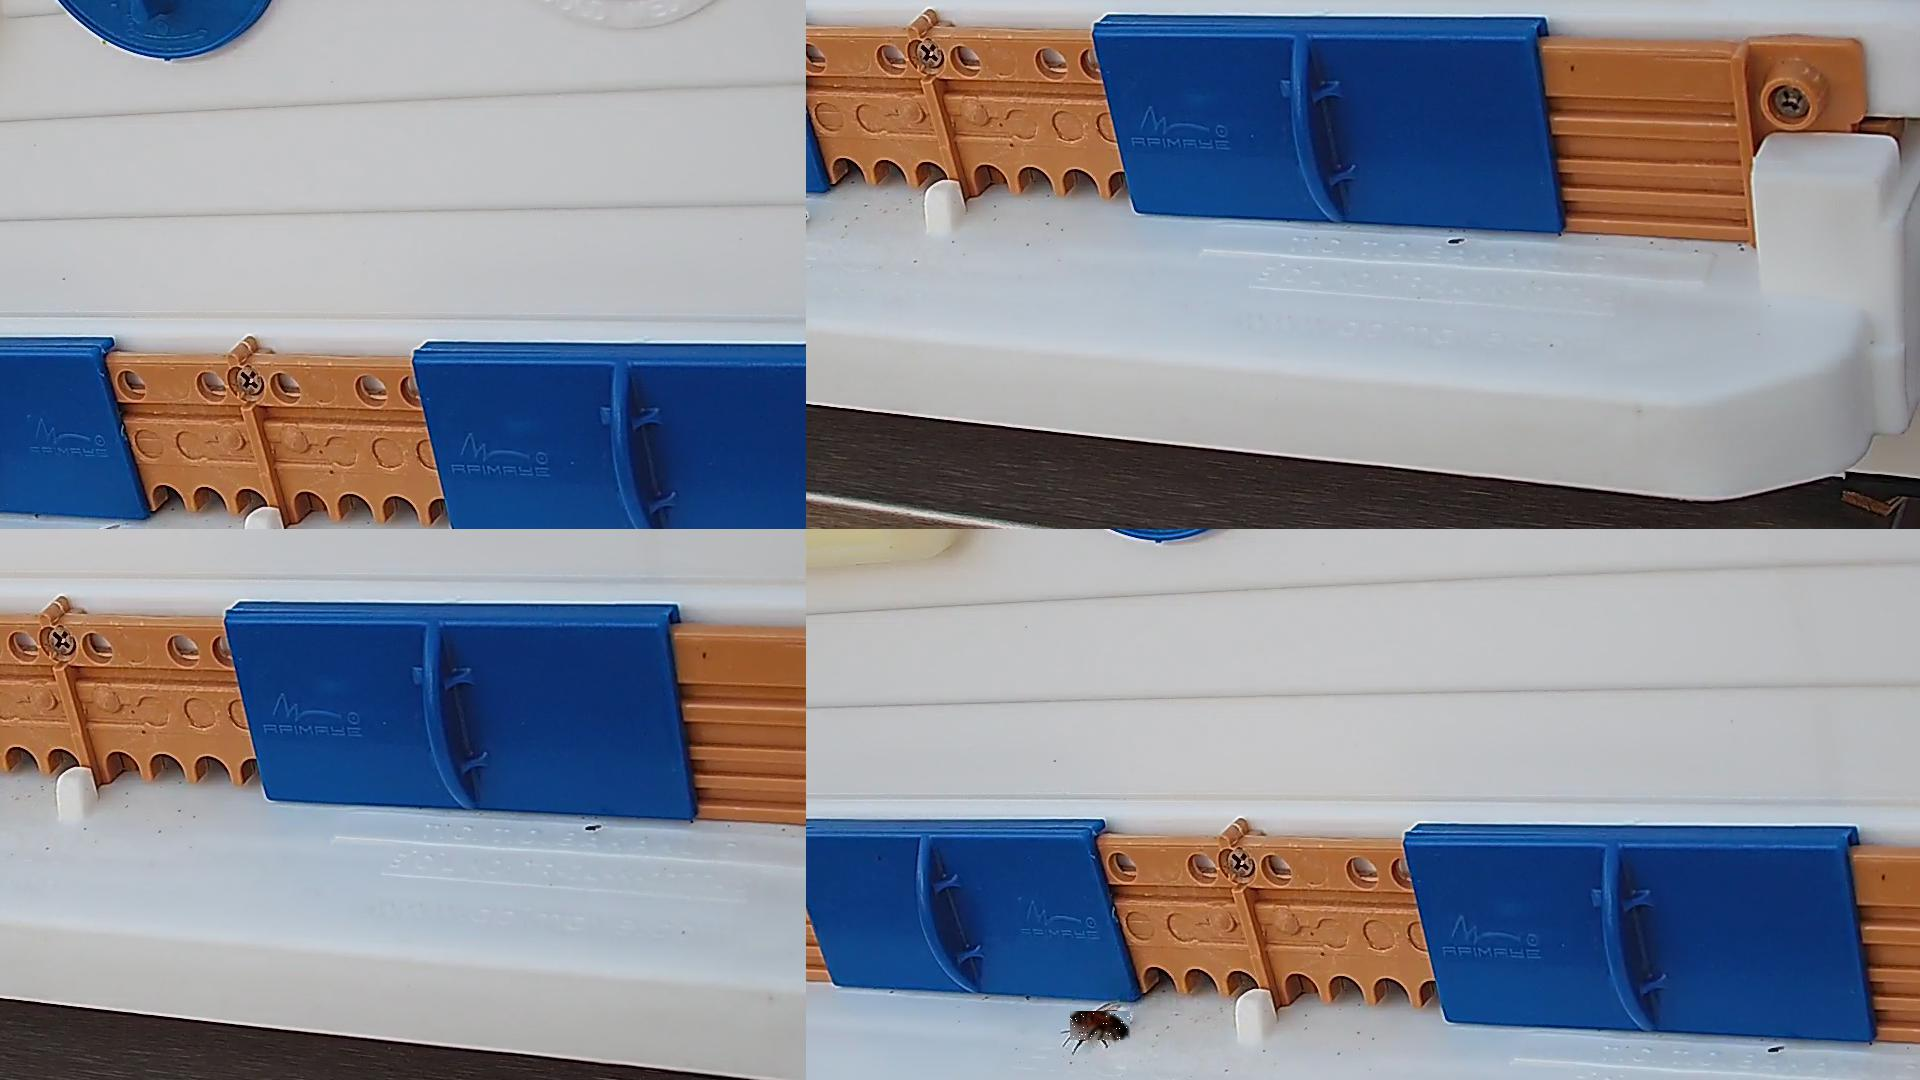bee: (1071, 1011, 1131, 1040)
